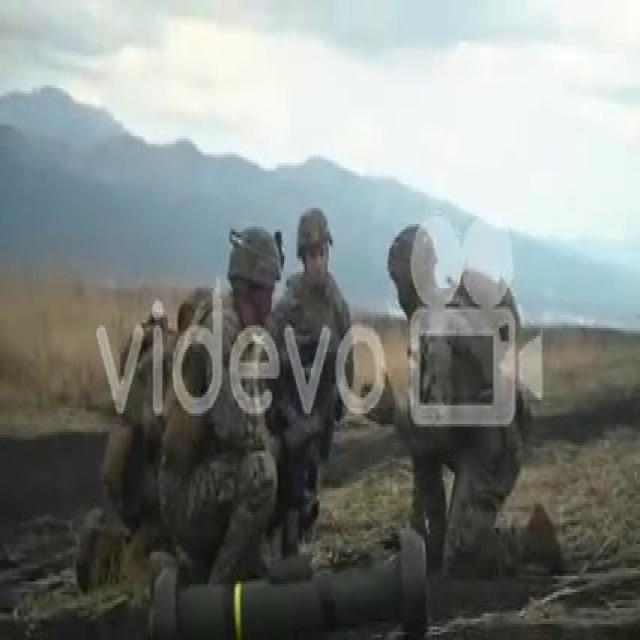bazooka: (146, 520, 436, 640)
